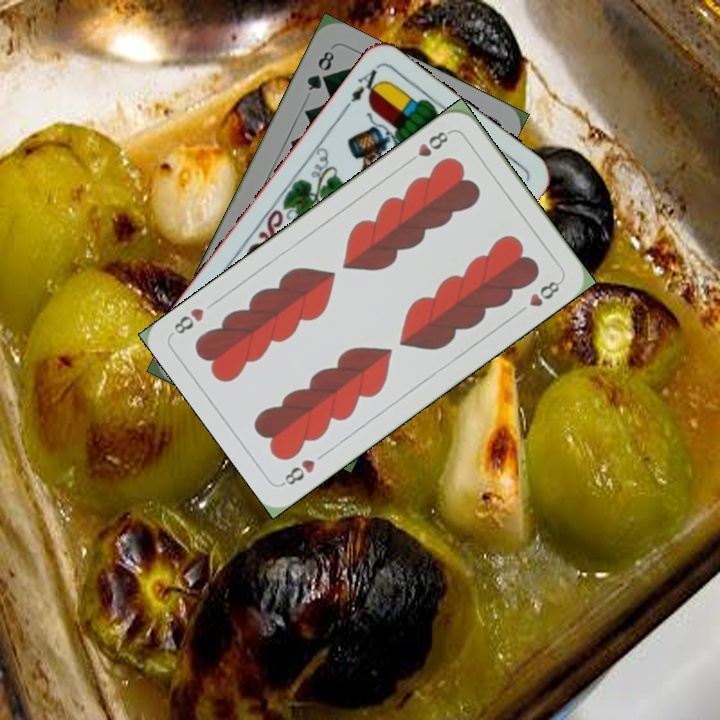EA: (339, 64, 386, 114)
G8: (303, 46, 337, 94)
H8: (403, 126, 454, 167), (278, 455, 318, 488)
